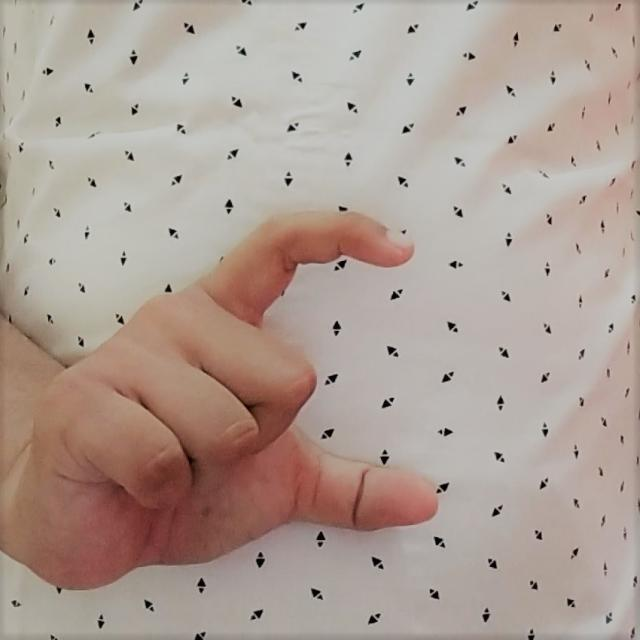C: (8, 197, 452, 604)
